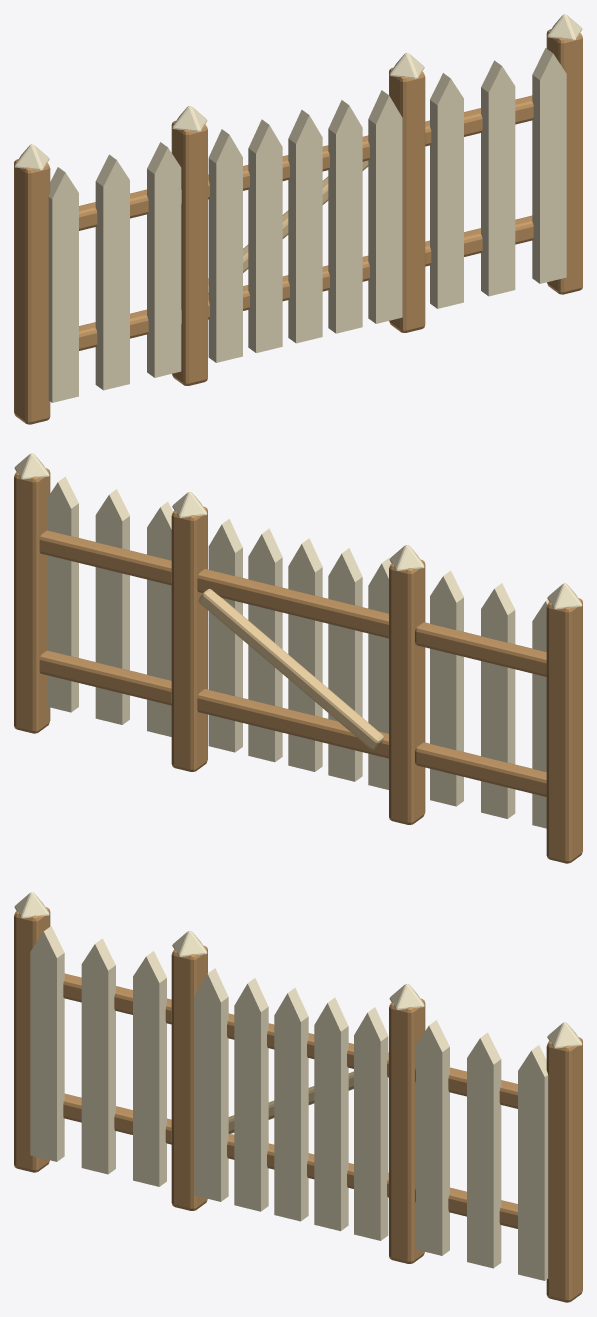
Rendered from S063_picket_gate.glb.
The picture shows the model from 3 angles, top to bottom: view 1: azimuth 30°, elevation 25°; view 2: azimuth 150°, elevation 25°; view 3: azimuth 330°, elevation 25°; orthographic projection.
Visible parts, largest first — view 1: fence_post, picket.005, picket.004, picket.002, picket.001, gate_picket.004, gate_picket.001, gate_picket.003, gate_picket, gate_picket.002, picket.003, fence_post.001 (+14 smaller); view 2: fence_post, fence_post.001, fence_post.002, fence_post.003, picket.001, picket.004, picket.002, picket.005, gate_picket.001, gate_picket.004, gate_picket.003, gate_picket.002 (+14 smaller); view 3: fence_post.003, picket, picket.001, picket.003, picket.004, gate_picket, gate_picket.001, gate_picket.003, gate_picket.002, gate_picket.004, picket.002, fence_post.002 (+13 smaller).
Part boxes in pixels (x1=…): fence_post: x1=14, y1=159, x2=50, y2=424; picket.005: x1=532, y1=48, x2=566, y2=283; picket.004: x1=481, y1=60, x2=515, y2=296; picket.002: x1=147, y1=142, x2=181, y2=377; picket.001: x1=95, y1=154, x2=129, y2=390; gate_picket.004: x1=368, y1=90, x2=402, y2=323; gate_picket.001: x1=248, y1=119, x2=282, y2=353; gate_picket.003: x1=328, y1=100, x2=362, y2=333; gate_picket: x1=208, y1=129, x2=242, y2=362; gate_picket.002: x1=288, y1=110, x2=322, y2=343; picket.003: x1=430, y1=73, x2=463, y2=308; fence_post.001: x1=171, y1=120, x2=207, y2=385; fence_post: x1=546, y1=598, x2=582, y2=863; fence_post.001: x1=389, y1=559, x2=425, y2=824; fence_post.002: x1=171, y1=506, x2=207, y2=771; fence_post.003: x1=14, y1=468, x2=50, y2=733; picket.001: x1=481, y1=583, x2=515, y2=818; picket.004: x1=95, y1=489, x2=129, y2=724; picket.002: x1=430, y1=570, x2=463, y2=806; picket.005: x1=47, y1=476, x2=78, y2=712; gate_picket.001: x1=328, y1=548, x2=362, y2=781; gate_picket.004: x1=208, y1=519, x2=242, y2=752; gate_picket.003: x1=248, y1=528, x2=282, y2=762; gate_picket.002: x1=288, y1=538, x2=322, y2=771; fence_post.003: x1=546, y1=1037, x2=582, y2=1302; picket: x1=30, y1=926, x2=64, y2=1161; picket.001: x1=81, y1=938, x2=115, y2=1174; picket.003: x1=415, y1=1020, x2=449, y2=1255; picket.004: x1=467, y1=1032, x2=501, y2=1268; gate_picket: x1=194, y1=968, x2=228, y2=1201; gate_picket.001: x1=234, y1=978, x2=268, y2=1211; gate_picket.003: x1=314, y1=997, x2=348, y2=1231; gate_picket.002: x1=274, y1=988, x2=308, y2=1221; gate_picket.004: x1=354, y1=1007, x2=388, y2=1240; picket.002: x1=133, y1=951, x2=166, y2=1186; fence_post.002: x1=389, y1=998, x2=425, y2=1263.
Bounding box in the file's own units: 2.77 × 1.28 × 0.185.
